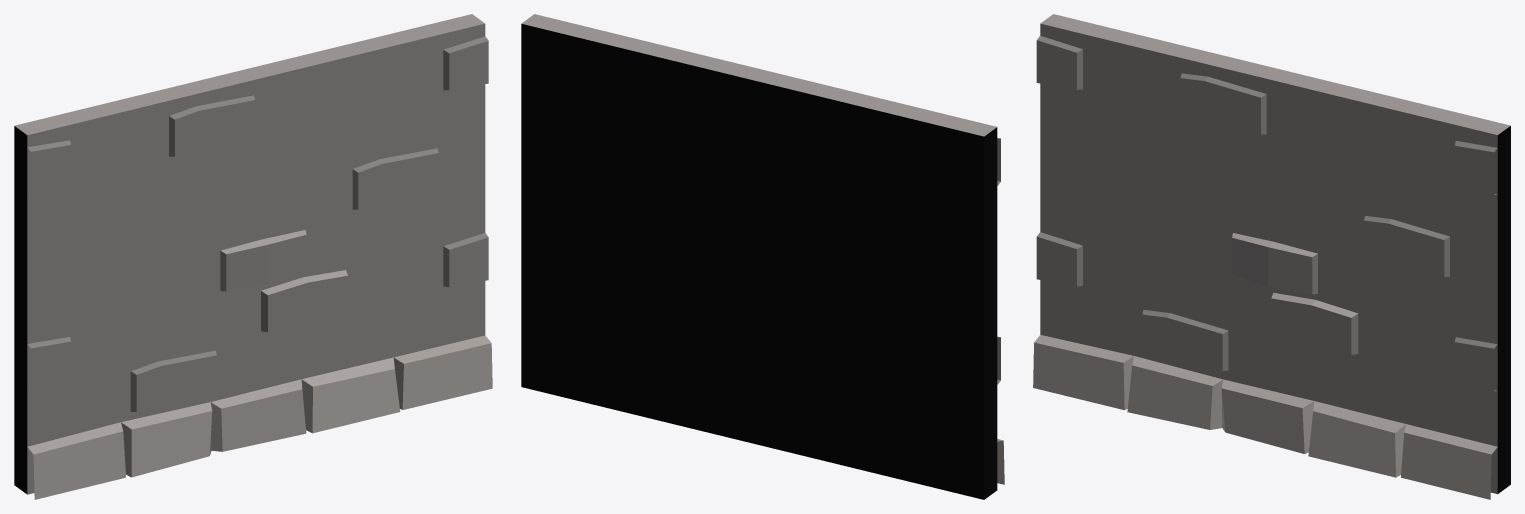
File: dungeon-wall-stone.glb
3 renders of one model, left to right at view 1: azimuth 30°, elevation 25°; view 2: azimuth 150°, elevation 25°; view 3: azimuth 330°, elevation 25°, orthographic.
Visible parts, largest first — view 1: dungeon-wall-stone; view 2: dungeon-wall-stone; view 3: dungeon-wall-stone.
Boxes of the visible parts, x1,y1,x2,y2 form: dungeon-wall-stone: [14, 14, 492, 499]; dungeon-wall-stone: [521, 14, 1004, 499]; dungeon-wall-stone: [1033, 14, 1510, 499].
Bounding box in the file's own units: 4 × 3 × 0.3266.
Materials: 1 (1 with a texture image).
